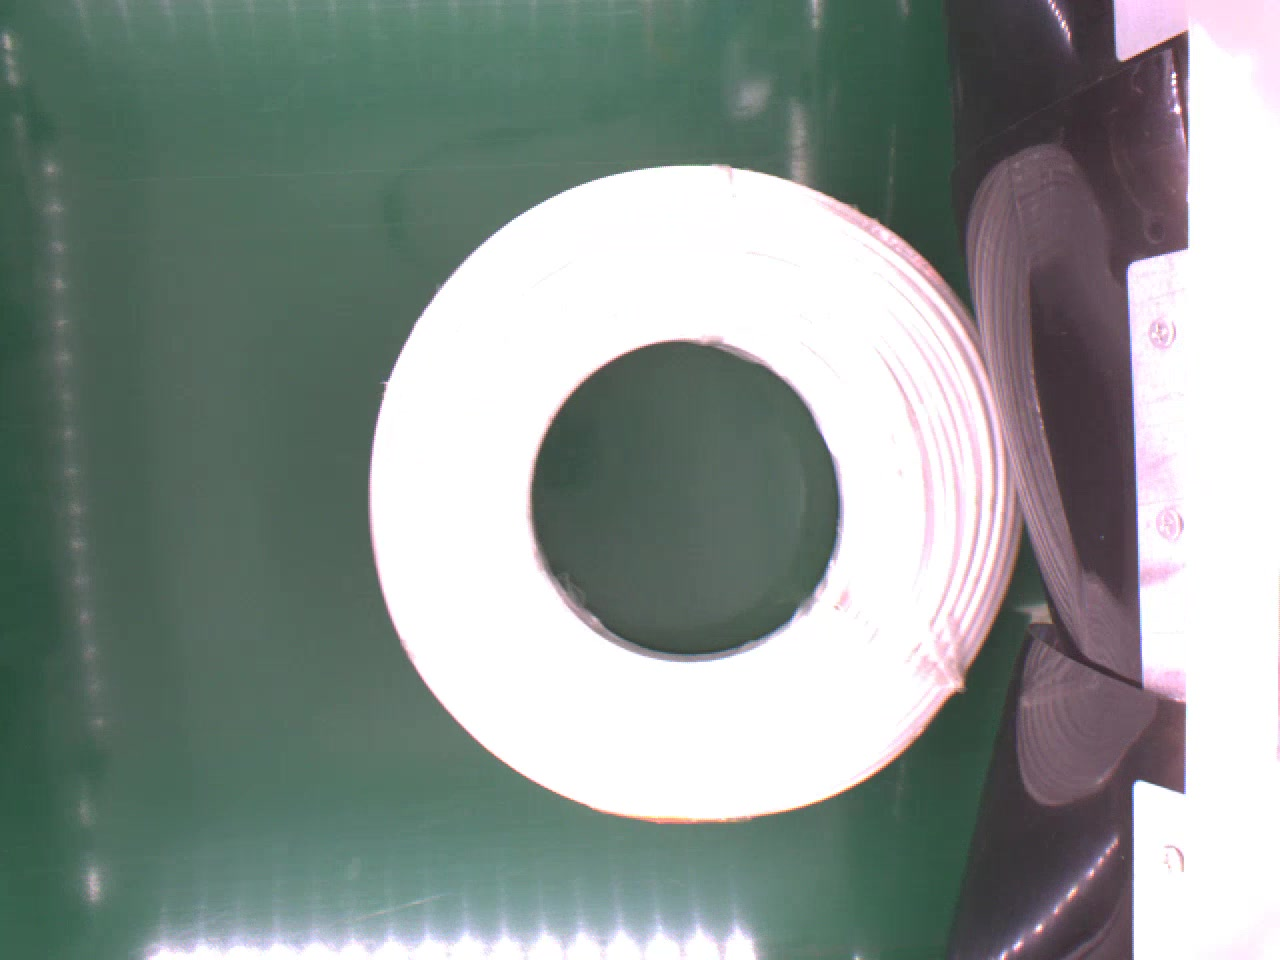white: (361, 158, 1020, 819)
